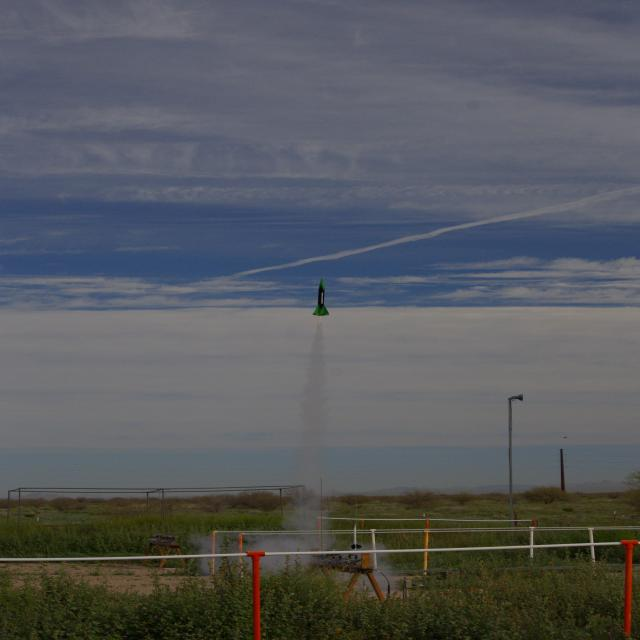Rocket: (312, 277, 330, 316), (350, 523, 362, 550)
